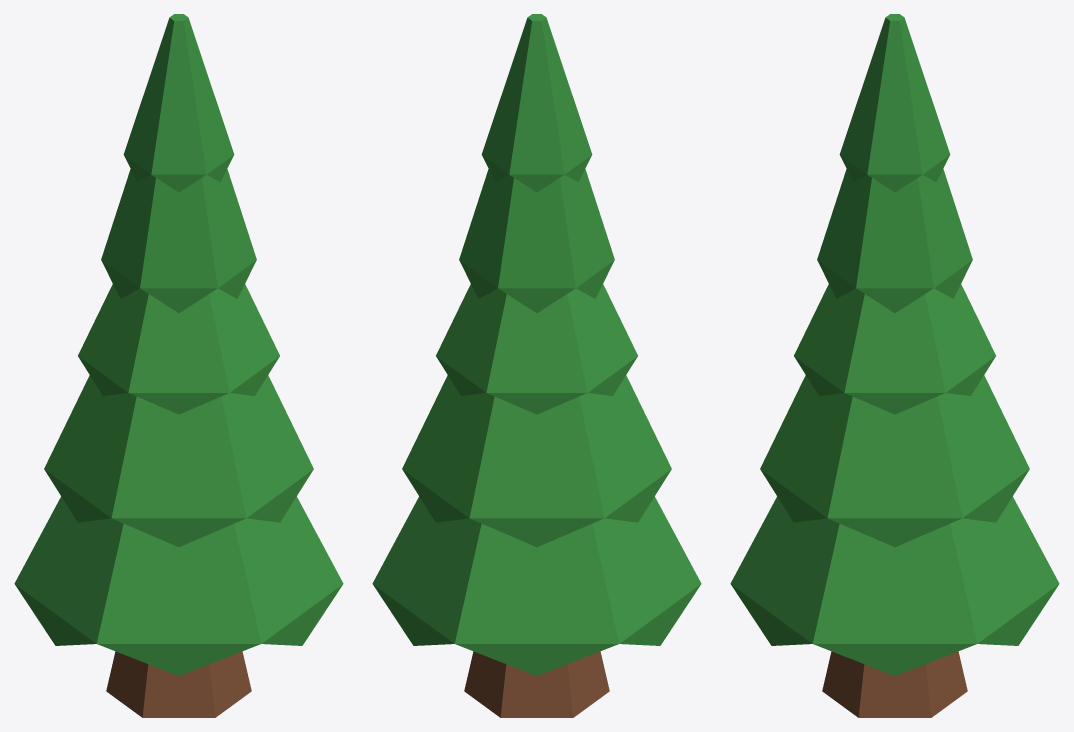
File: tree_6.fbx
The picture shows the model from 3 angles, left to right: view 1: azimuth 30°, elevation 25°; view 2: azimuth 150°, elevation 25°; view 3: azimuth 270°, elevation 25°; orthographic projection.
Parts seen in each view (by area): view 1: tree_6; view 2: tree_6; view 3: tree_6.
Boxes of the visible parts, bbox=[...] form: tree_6: bbox=[14, 14, 343, 717]; tree_6: bbox=[372, 14, 701, 717]; tree_6: bbox=[730, 14, 1059, 717].
Size of the model in its own units: 0.4804 by 1.25 by 0.5547.
Materials: 1 (1 with a texture image).
